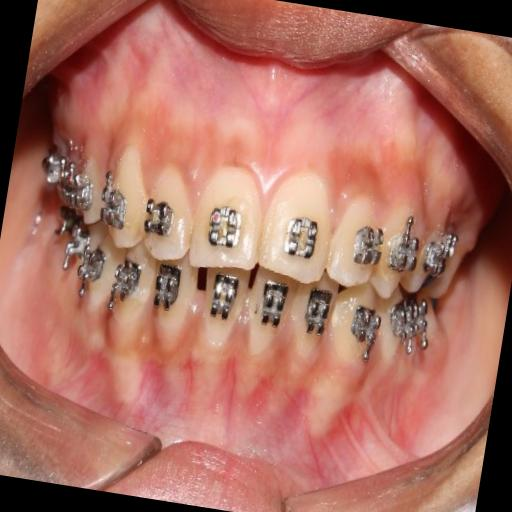correct_brace: (282, 210, 323, 262), (204, 198, 245, 249), (138, 192, 174, 244), (387, 223, 421, 276), (353, 221, 384, 269), (98, 183, 130, 228)
incorrect_brace: (324, 192, 384, 285), (140, 165, 199, 259)
